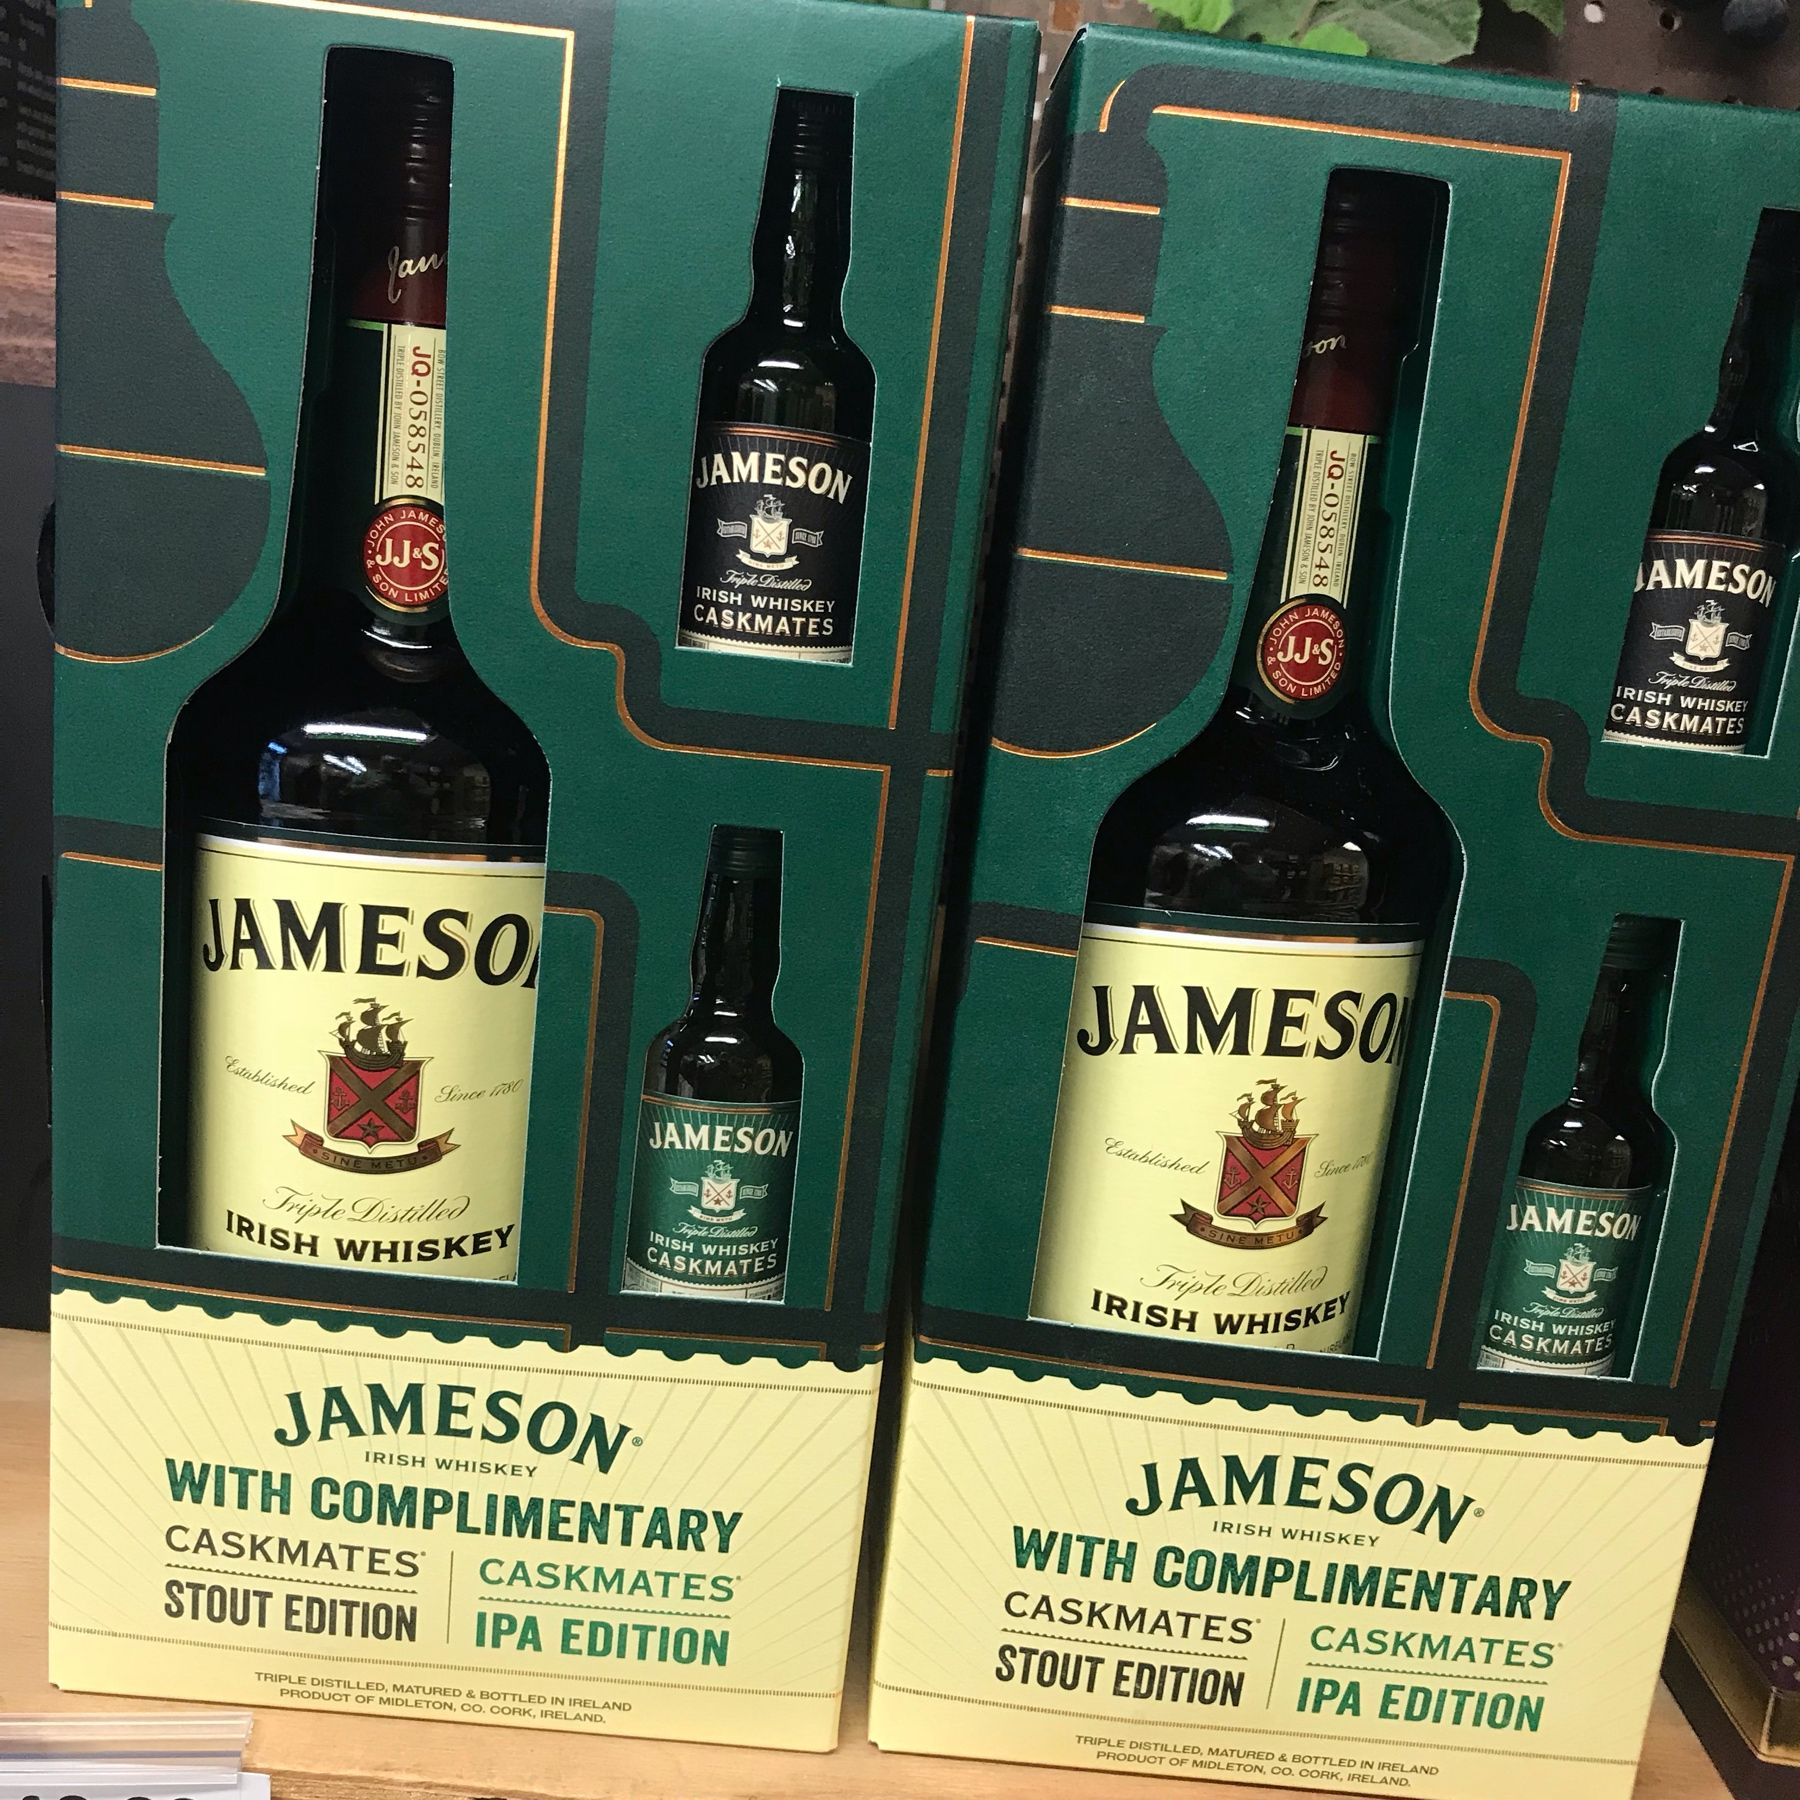Jameson: (1014, 157, 1462, 1396), (145, 40, 570, 1322), (663, 66, 880, 677), (1579, 193, 1800, 778), (1449, 903, 1688, 1399), (613, 814, 804, 1325)
